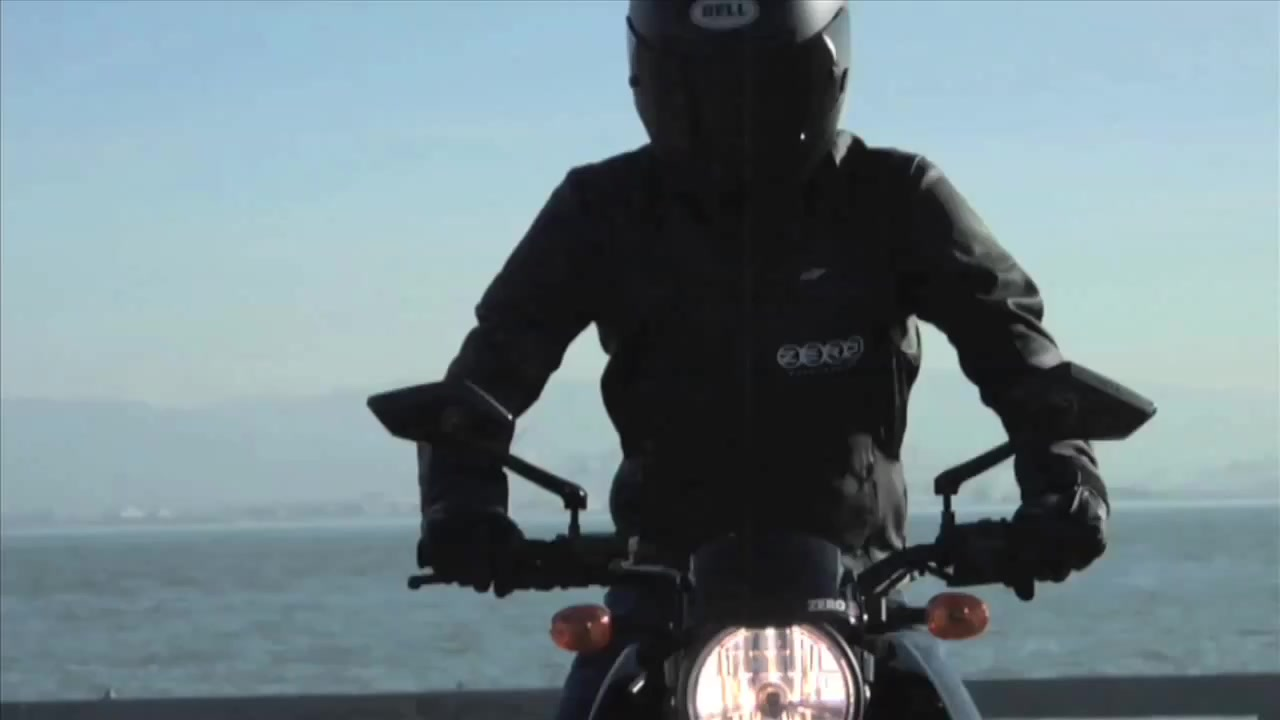motorbike: (365, 361, 1156, 720)
